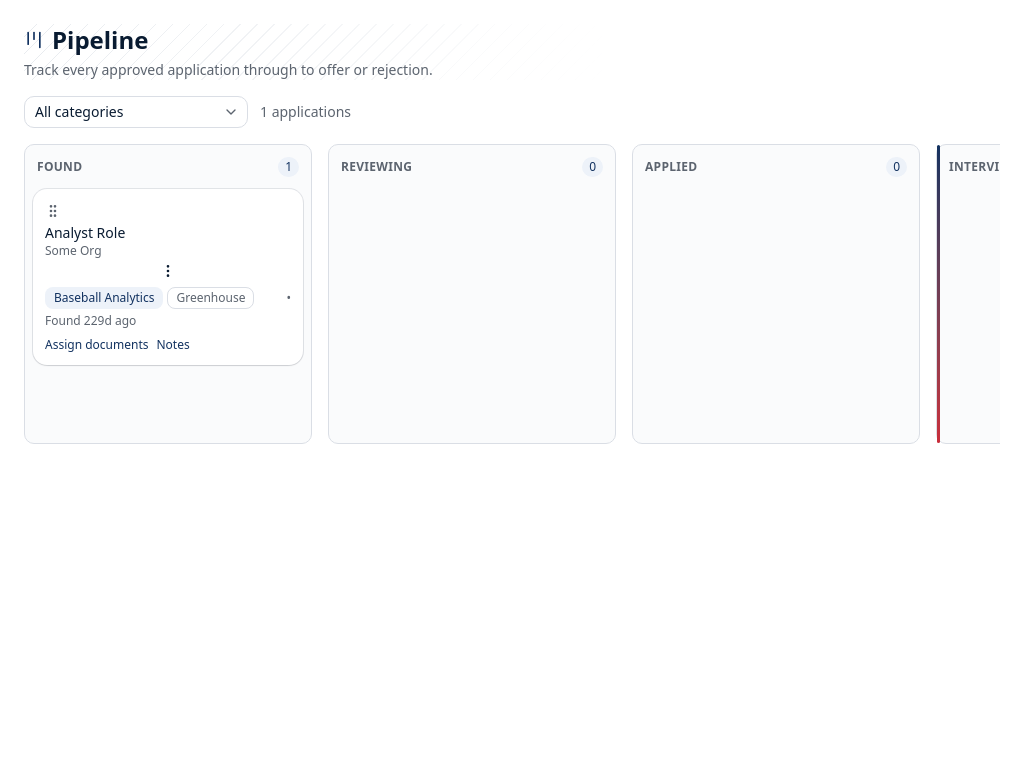
Test: page smoke tests › Pipeline delete flow: cancel keeps the application, confirm removes it
Expected: the button "Analyst Role" is shown, [45,224,125,242]
What coordinates should you click on to do the following:
click the button named "More actions"
I would click on:
 (168, 271)
Its box is [45,263,291,279].
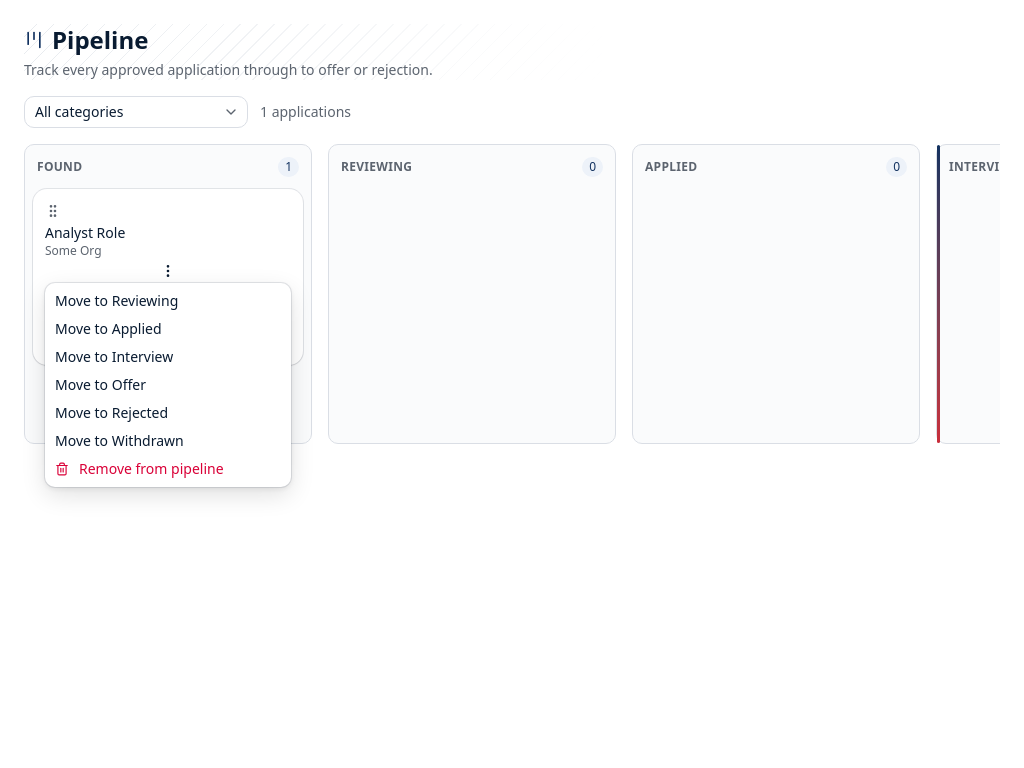
What coordinates should you click on to do the following:
click the menu item "Remove from pipeline"
I would click on:
 (139, 468)
Its box is [55,459,224,478].
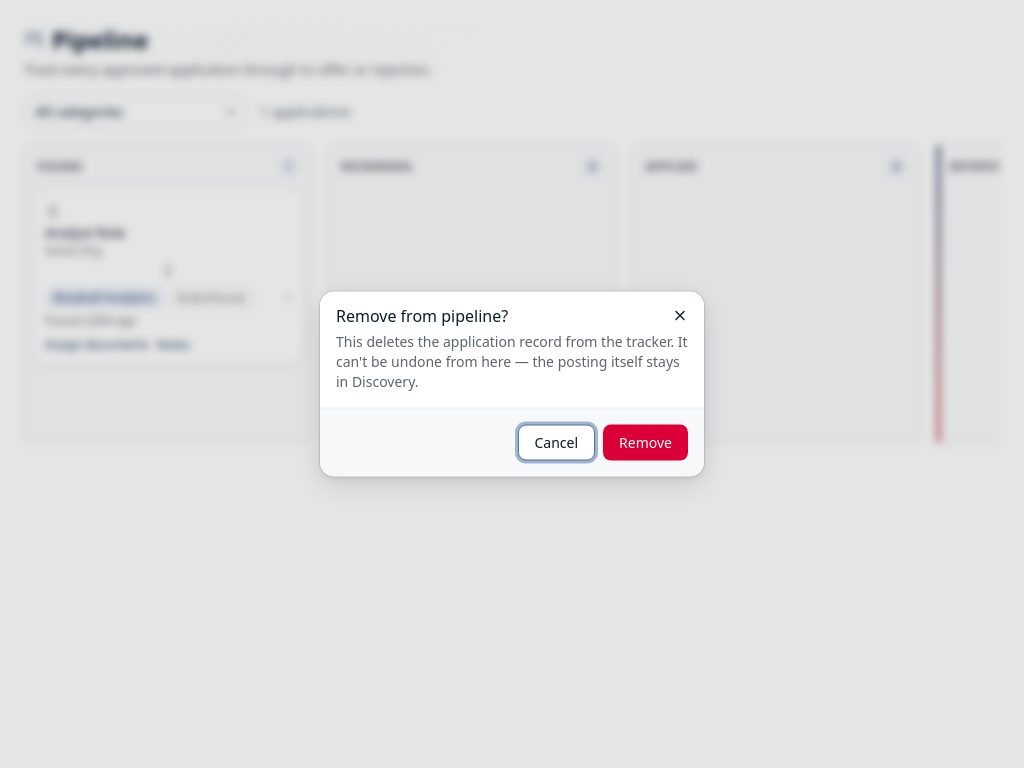
Result: the heading "Remove from pipeline?" is shown at [336,304,508,326]
What coordinates should you click on to do the following:
click the button "Cancel"
I would click on:
 (556, 442)
Its box is [518,424,595,460].
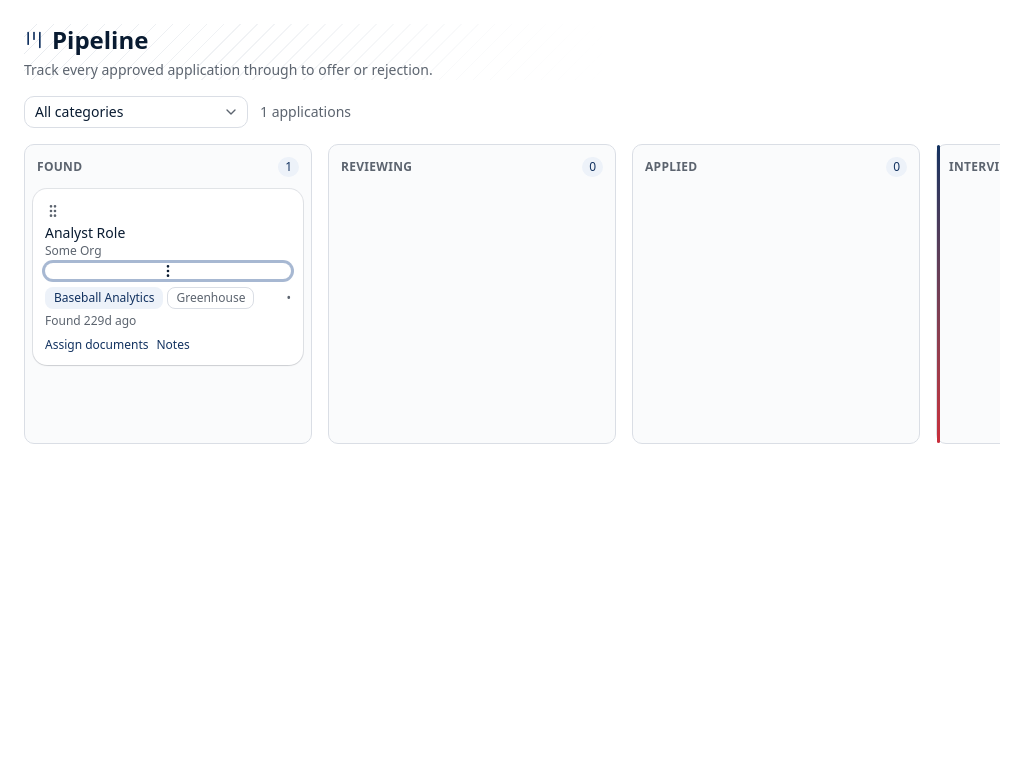
Expected: the button "Analyst Role" is shown, [45,224,125,242]
Result: the heading "Remove from pipeline?" is gone
What coordinates should you click on to do the following:
click the button named "More actions"
I would click on:
 (168, 271)
Its box is [45,263,291,279].
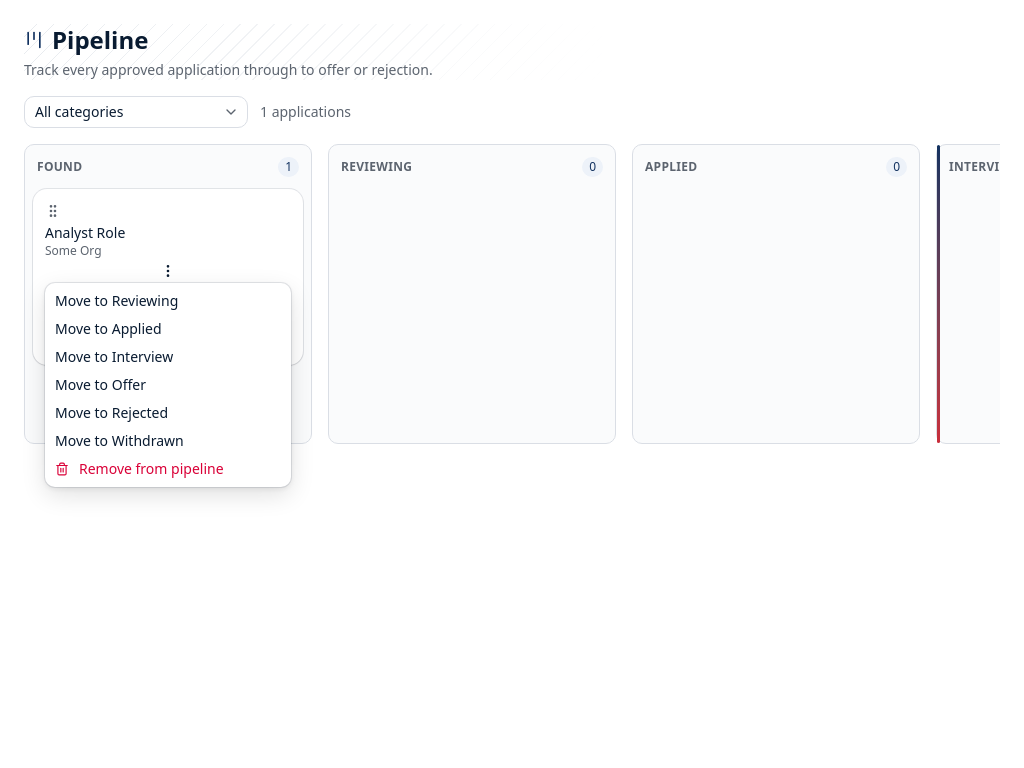
What coordinates should you click on to do the following:
click the menu item "Remove from pipeline"
I would click on:
 (139, 468)
Its box is [55,459,224,478].
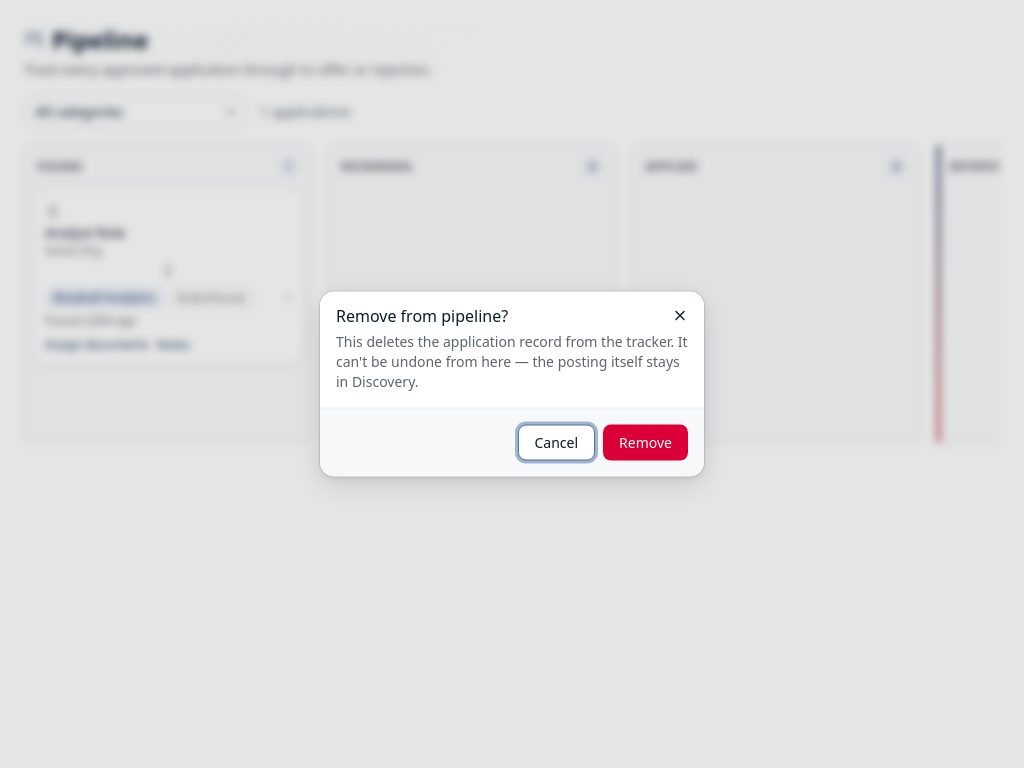
What coordinates should you click on to do the following:
click the button "Remove"
I would click on:
 (646, 442)
Its box is [603,424,688,460].
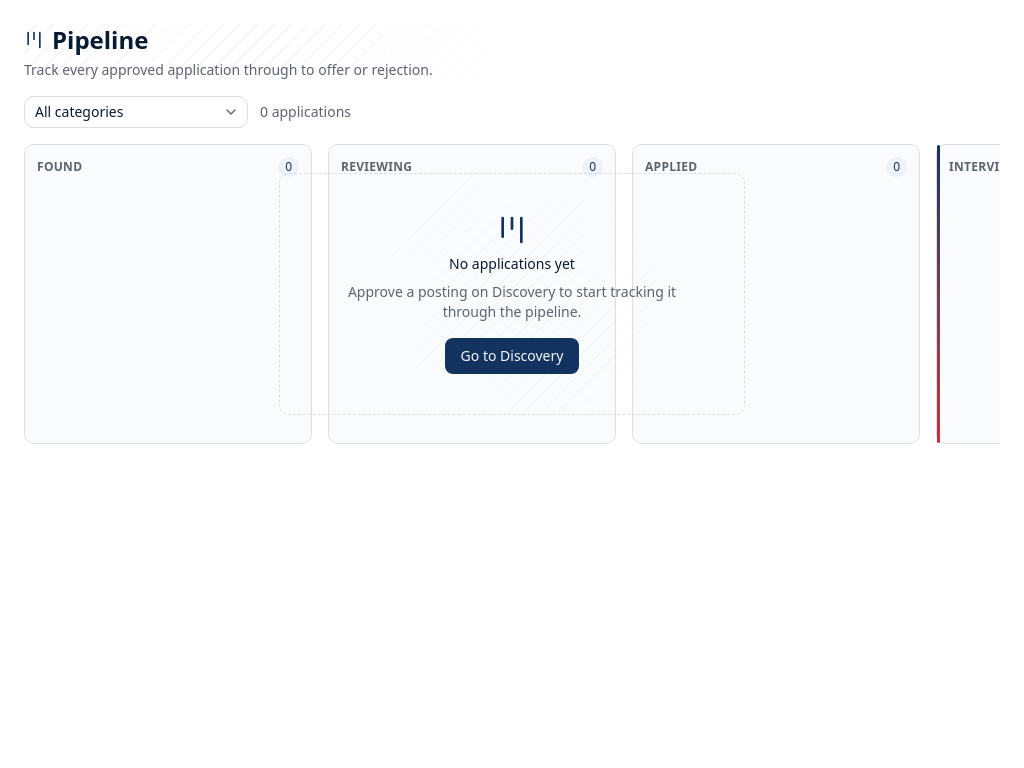
Result: the button "Analyst Role" is gone
